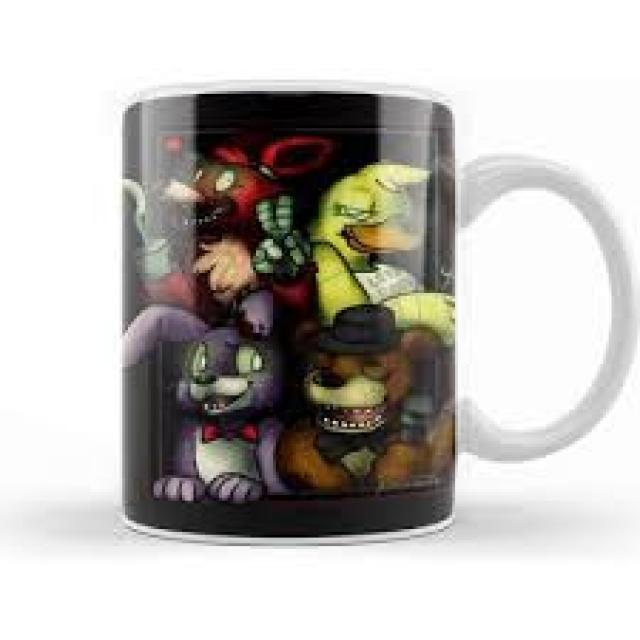taza: (121, 80, 639, 548)
